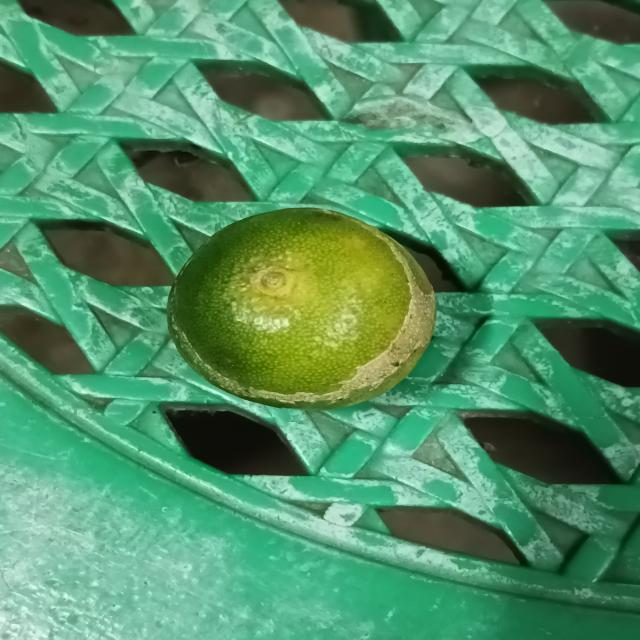thrips: (164, 204, 447, 413)
